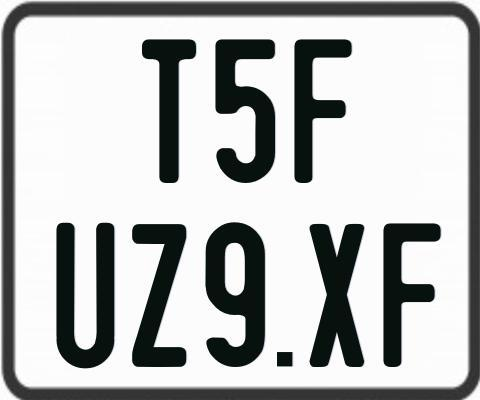5: (212, 38, 276, 188)
9: (205, 221, 265, 366)
F: (380, 220, 441, 364), (291, 39, 350, 186)
T: (140, 38, 197, 188)
U: (55, 223, 114, 371)
X: (307, 224, 364, 372)
Z: (132, 221, 192, 368)
